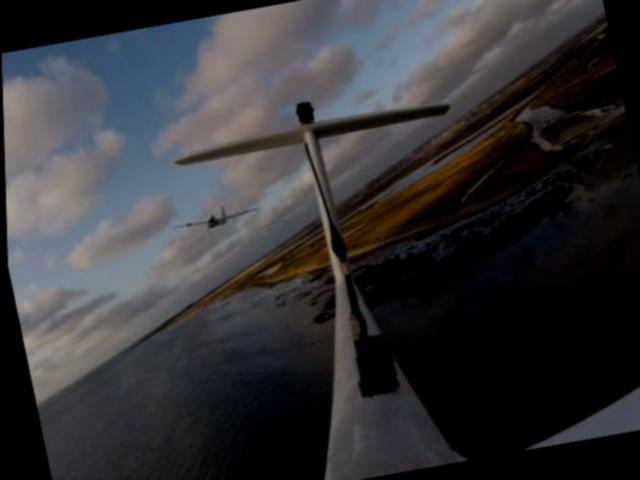uav: (164, 197, 264, 242)
